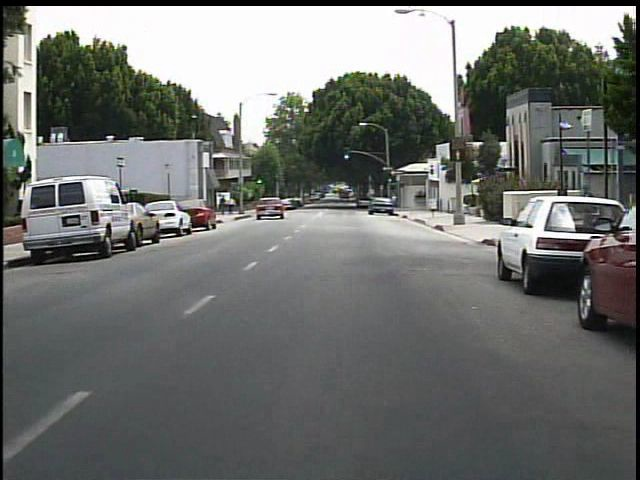person: (218, 195, 231, 217), (228, 196, 239, 219)
